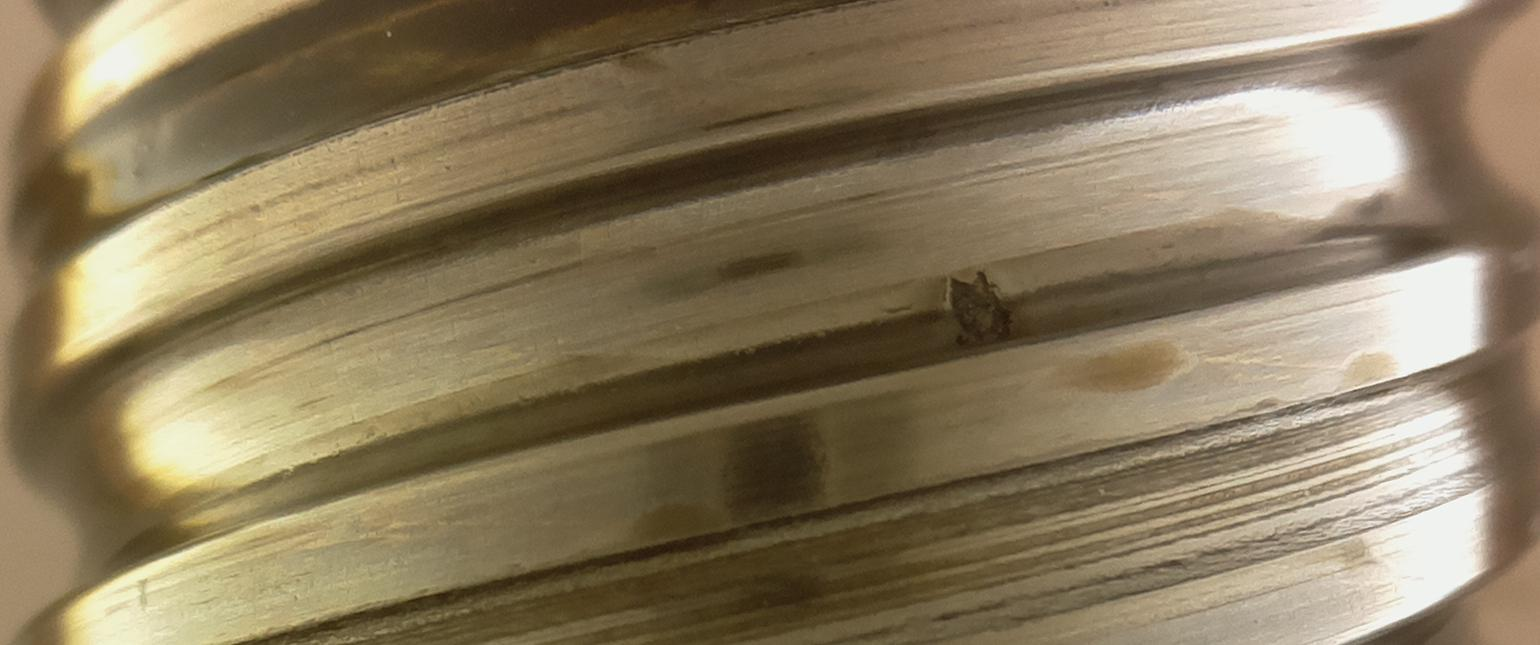pitting: (950, 272, 1013, 348)
